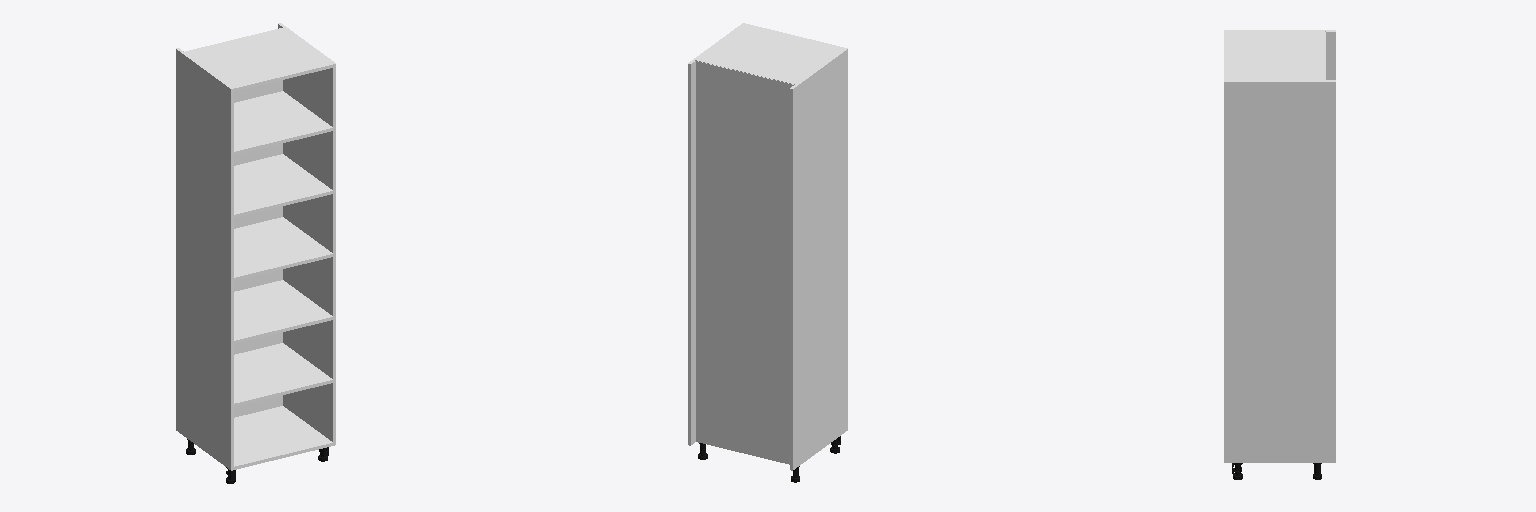
3 views of the same model, side by side, from view 1: azimuth 30°, elevation 25°; view 2: azimuth 150°, elevation 25°; view 3: azimuth 270°, elevation 25° (orthographic).
Visible parts, largest first — view 1: Mesh40 texture_29_1 axe_position_19_1 _____________________1 axe, Mesh44 texture_5_1 axe_position_1_1 ______________________1_1 ax, Mesh22 texture_16_1 axe_position_7_1 ________________________3_1, Mesh36 texture_12_1 axe_position_4_1 ________________________2_1, Mesh23 texture_2_1 axe_position_5_1 _______________2_1 axe_posit, Mesh25 texture_33_1 axe_position_20_1 panel_copy_001 axe_positio, Mesh27 texture_34_1 axe_position_21_1 panel_copy_002 axe_positio, Mesh29 texture_35_1 axe_position_22_1 panel_copy_003 axe_positio, Mesh31 texture_36_1 axe_position_23_1 panel_copy_004 axe_positio, Mesh33 texture_1_1 axe_position_8_1 _______________1 axe_positio, Mesh39 texture_30_1 hdf_notch_5_1 axe_position_19_1 ____________; view 2: Mesh33 texture_1_1 axe_position_8_1 _______________1 axe_positio, Mesh40 texture_29_1 axe_position_19_1 _____________________1 axe, Mesh22 texture_16_1 axe_position_7_1 ________________________3_1, Mesh39 texture_30_1 hdf_notch_5_1 axe_position_19_1 ____________, Mesh43 texture_4_1 hdf_notch_2_1 axe_position_1_1 ______________; view 3: Mesh44 texture_5_1 axe_position_1_1 ______________________1_1 ax, Mesh22 texture_16_1 axe_position_7_1 ________________________3_1, Mesh43 texture_4_1 hdf_notch_2_1 axe_position_1_1 ______________.
Part boxes in pixels (x1,y1,x2,y2): Mesh40 texture_29_1 axe_position_19_1 _____________________1 axe: (181, 52, 233, 470); Mesh44 texture_5_1 axe_position_1_1 ______________________1_1 ax: (283, 27, 335, 445); Mesh22 texture_16_1 axe_position_7_1 ________________________3_1: (185, 28, 332, 91); Mesh36 texture_12_1 axe_position_4_1 ________________________2_1: (234, 406, 332, 469); Mesh23 texture_2_1 axe_position_5_1 _______________2_1 axe_posit: (234, 343, 332, 406); Mesh25 texture_33_1 axe_position_20_1 panel_copy_001 axe_positio: (234, 280, 332, 343); Mesh27 texture_34_1 axe_position_21_1 panel_copy_002 axe_positio: (234, 217, 332, 280); Mesh29 texture_35_1 axe_position_22_1 panel_copy_003 axe_positio: (234, 154, 332, 217); Mesh31 texture_36_1 axe_position_23_1 panel_copy_004 axe_positio: (234, 91, 332, 154); Mesh33 texture_1_1 axe_position_8_1 _______________1 axe_positio: (201, 36, 282, 417); Mesh39 texture_30_1 hdf_notch_5_1 axe_position_19_1 ____________: (176, 48, 183, 433); Mesh33 texture_1_1 axe_position_8_1 _______________1 axe_positio: (696, 61, 793, 464); Mesh40 texture_29_1 axe_position_19_1 _____________________1 axe: (795, 48, 847, 466); Mesh22 texture_16_1 axe_position_7_1 ________________________3_1: (696, 24, 843, 84); Mesh39 texture_30_1 hdf_notch_5_1 axe_position_19_1 ____________: (790, 85, 797, 470); Mesh43 texture_4_1 hdf_notch_2_1 axe_position_1_1 ______________: (688, 60, 695, 445); Mesh44 texture_5_1 axe_position_1_1 ______________________1_1 ax: (1224, 80, 1324, 462); Mesh22 texture_16_1 axe_position_7_1 ________________________3_1: (1224, 32, 1324, 79); Mesh43 texture_4_1 hdf_notch_2_1 axe_position_1_1 ______________: (1326, 80, 1335, 462).
Size of the model in its own units: 600 by 2178 by 550.